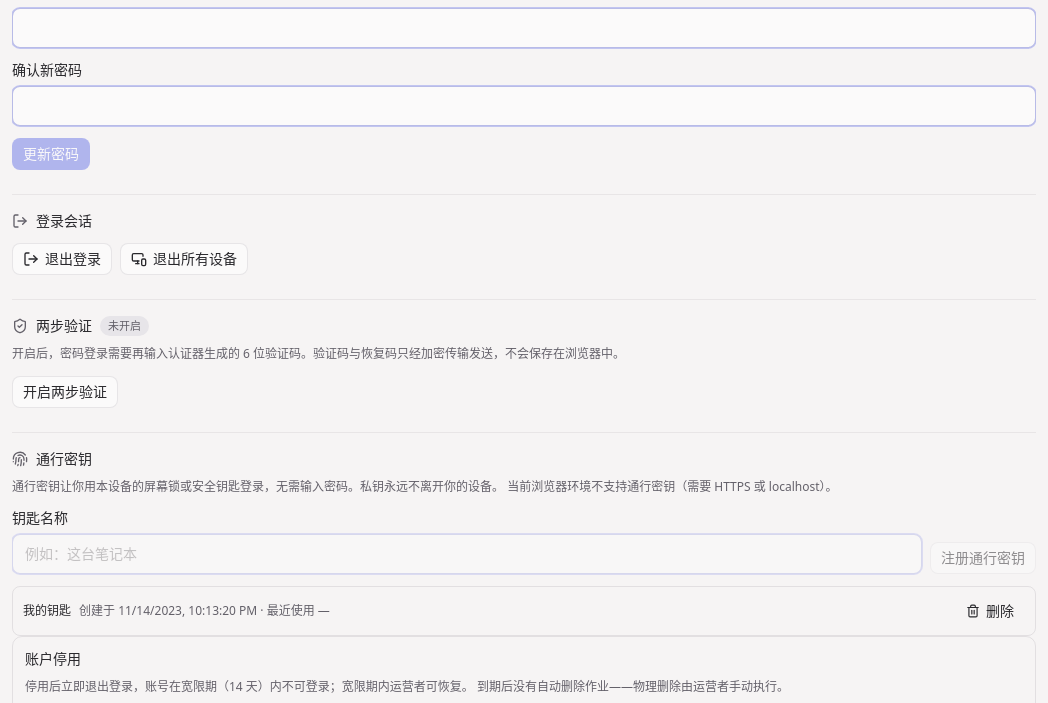
Test: N006 通行密钥（安全页） › 服务端 401（密码错）→ 显示错误信息
(page scrolled)
Click the button "删除" at (990, 611), box [955,595,1025,627]
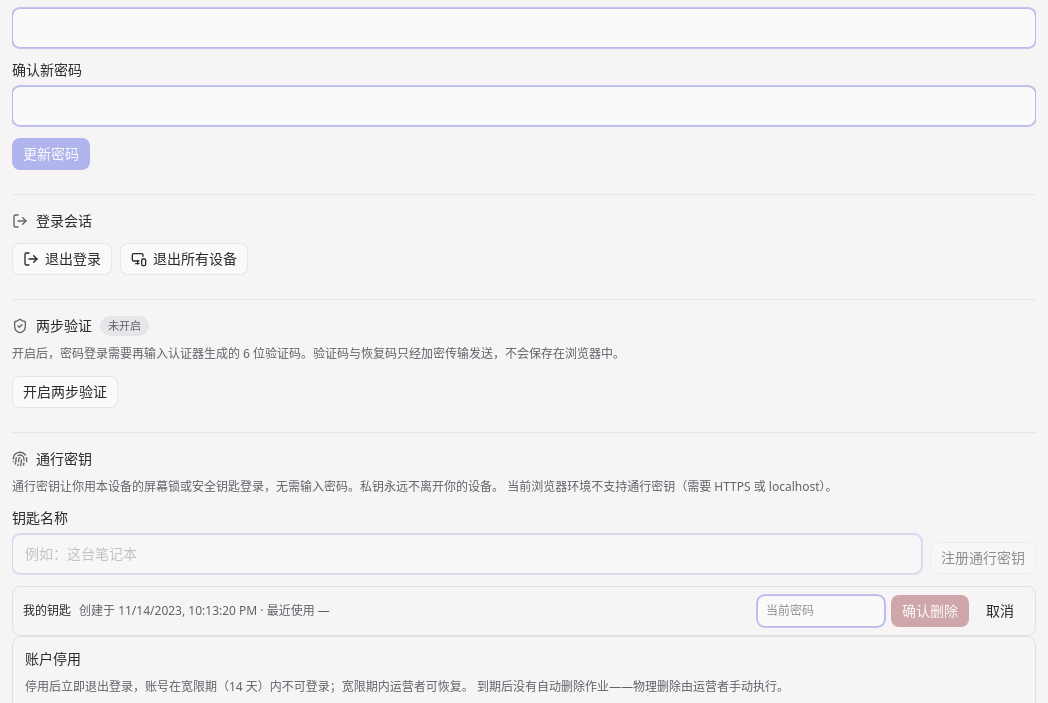
Type "wrong" into the password field named "确认删除：当前密码" at (821, 611), box [757,595,885,627]
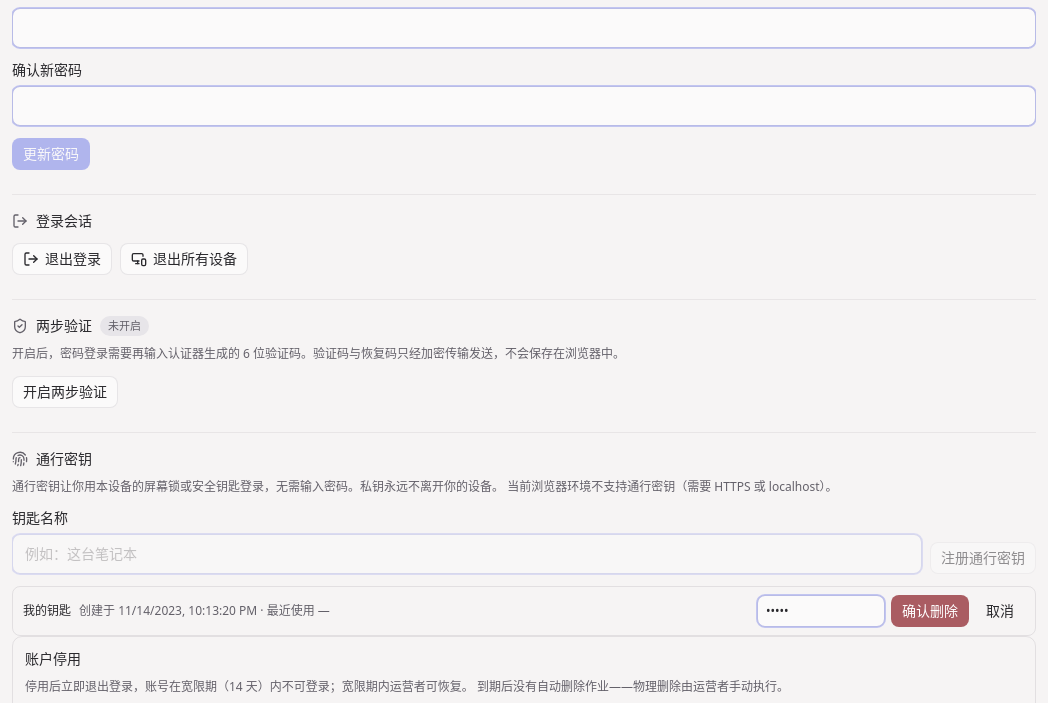
Click the button "确认删除" at (930, 611), box [891,595,969,627]
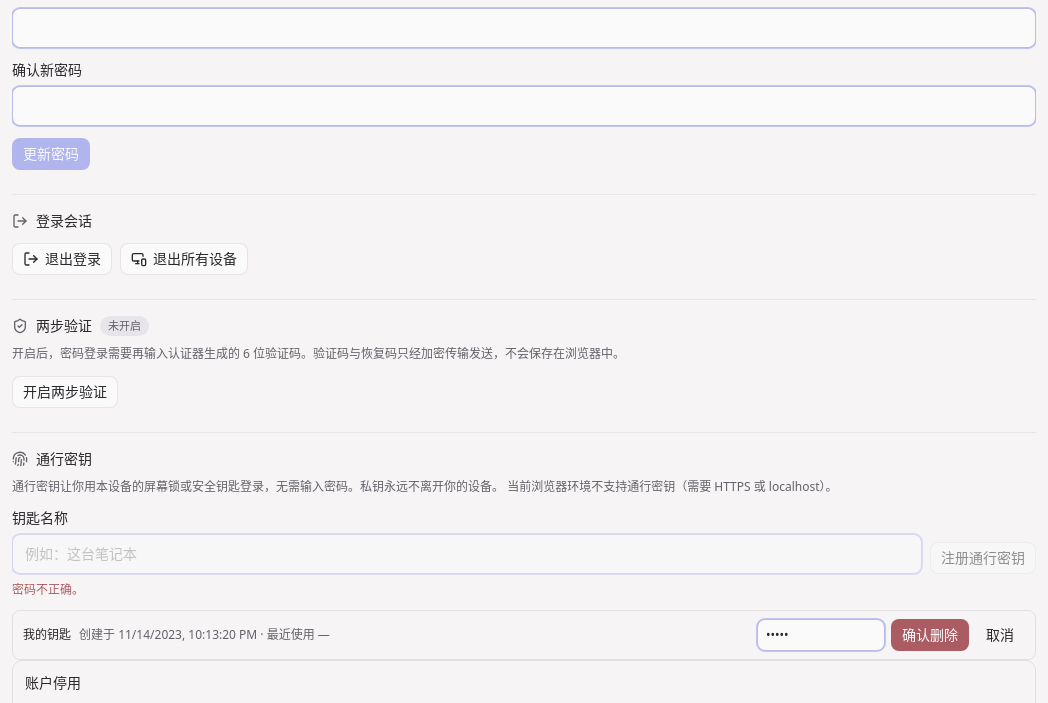
Check: the message shows "密码不正确", box [12,581,84,598]
